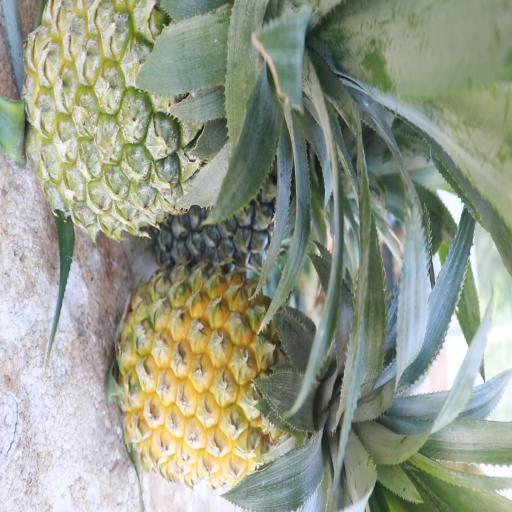------------------------------: (29, 0, 309, 236)
Pineapple - v8 v1: (121, 270, 360, 488)
